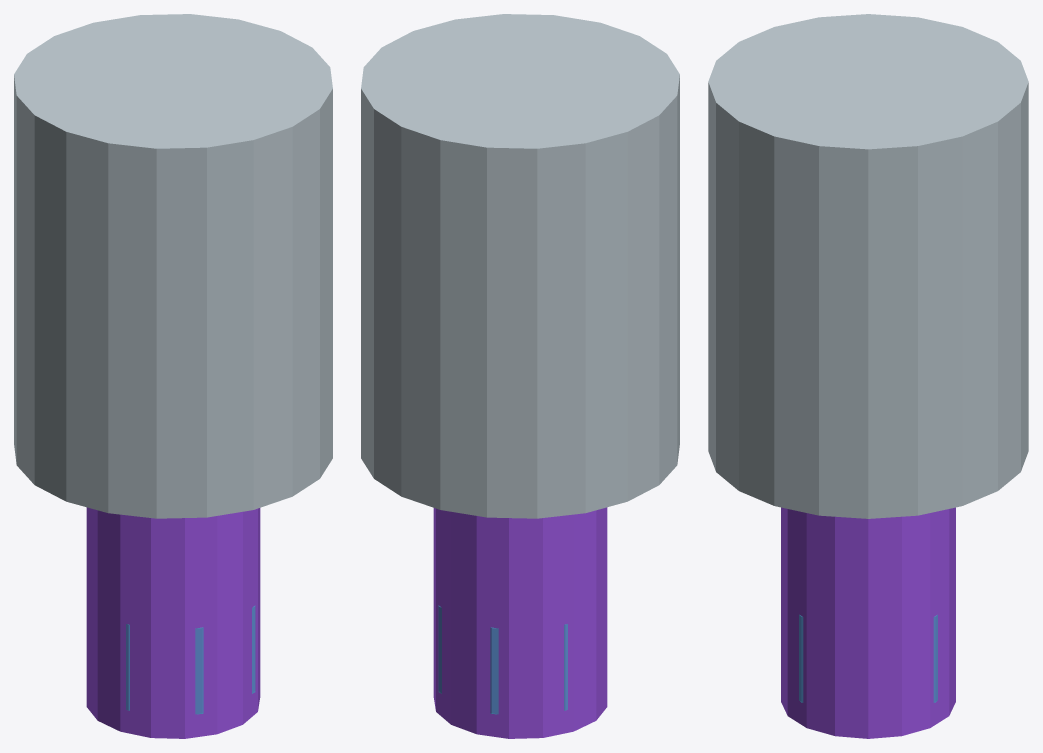
Rendered from 37_L77_BarrierFluidDispenseNozzle.fbx.
The picture shows the model from 3 angles, left to right: view 1: azimuth 30°, elevation 25°; view 2: azimuth 150°, elevation 25°; view 3: azimuth 270°, elevation 25°; orthographic projection.
Visible parts, largest first — view 1: BarrierFluidDispenseNozzle_Part_0000, BarrierFluidDispenseNozzle_Part_0001, BarrierFluidDispenseNozzle_Part_0004; view 2: BarrierFluidDispenseNozzle_Part_0000, BarrierFluidDispenseNozzle_Part_0001, BarrierFluidDispenseNozzle_Part_0007; view 3: BarrierFluidDispenseNozzle_Part_0000, BarrierFluidDispenseNozzle_Part_0001.
Part boxes in pixels (x1=…): BarrierFluidDispenseNozzle_Part_0000: x1=14, y1=14, x2=332, y2=518; BarrierFluidDispenseNozzle_Part_0001: x1=86, y1=507, x2=260, y2=738; BarrierFluidDispenseNozzle_Part_0004: x1=195, y1=627, x2=203, y2=714; BarrierFluidDispenseNozzle_Part_0000: x1=361, y1=14, x2=679, y2=518; BarrierFluidDispenseNozzle_Part_0001: x1=433, y1=507, x2=607, y2=738; BarrierFluidDispenseNozzle_Part_0007: x1=490, y1=627, x2=498, y2=714; BarrierFluidDispenseNozzle_Part_0000: x1=708, y1=14, x2=1028, y2=518; BarrierFluidDispenseNozzle_Part_0001: x1=781, y1=507, x2=955, y2=738.
Bounding box in the file's own units: 22 × 47 × 22.
